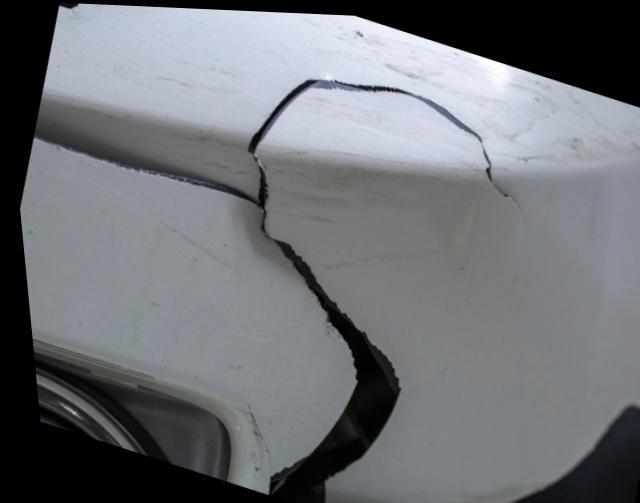crack: (30, 75, 521, 503), (493, 397, 640, 503)
scratch: (349, 17, 640, 171)
